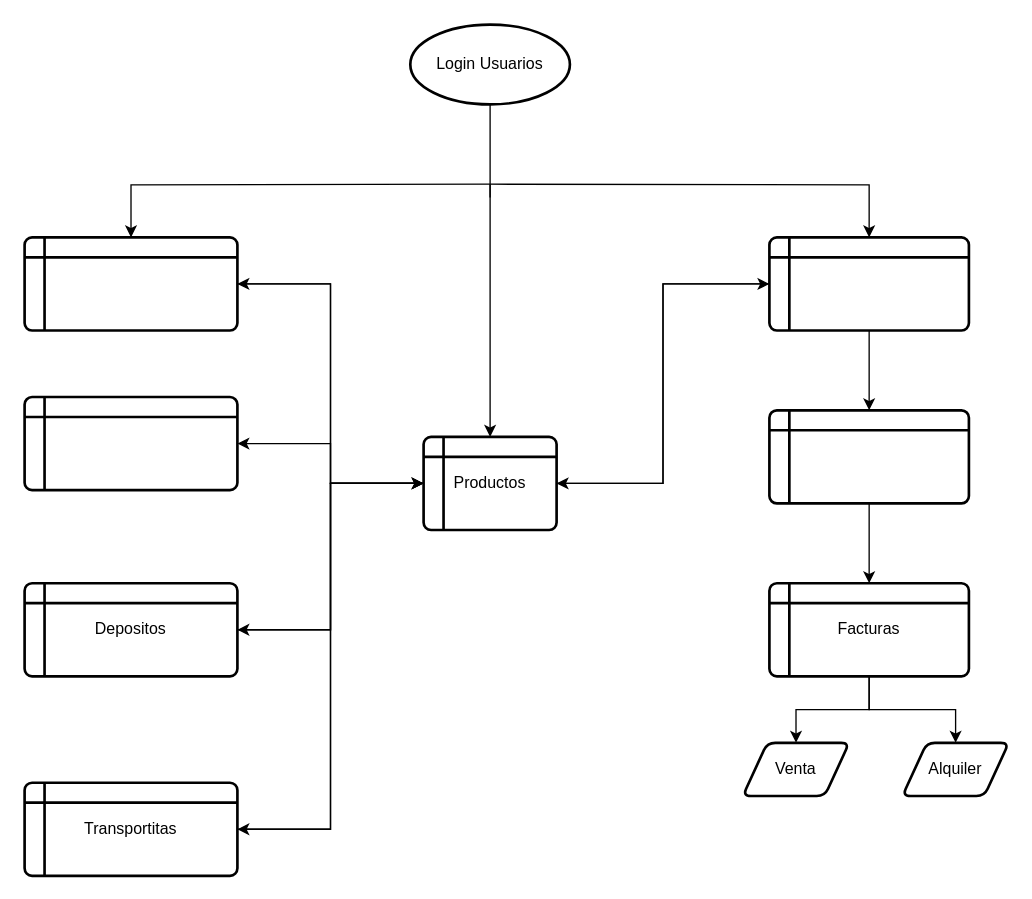
Some shapes in this 1032 by 899 pixel diagram are drawn without their labels. The centre of each missing label's shape, as x and y in pixels:
Clientes: [130,443]
Contratos: [868,456]
Ofertas: [868,283]
Proveedores: [130,283]
